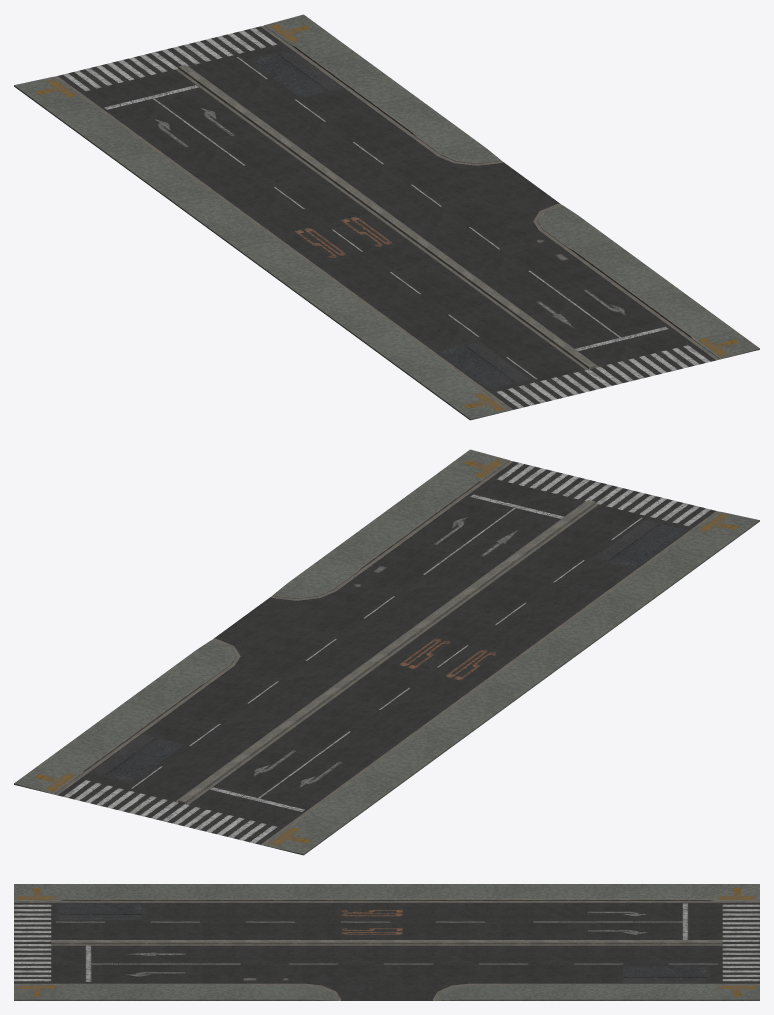
Rendered from jctlowRoad22mC_f.fbx.
3 renders of one model, top to bottom at view 1: azimuth 30°, elevation 25°; view 2: azimuth 150°, elevation 25°; view 3: azimuth 270°, elevation 25°, orthographic. The views are drawn at different scales.
Visible parts, largest first — view 1: jctlowRoad22mC_f; view 2: jctlowRoad22mC_f; view 3: jctlowRoad22mC_f.
Part boxes in pixels (x1,y1,x2,y2): jctlowRoad22mC_f: (14, 14, 759, 420); jctlowRoad22mC_f: (14, 449, 759, 855); jctlowRoad22mC_f: (14, 884, 759, 1000).
Bounding box in the file's own units: 2200 × 15 × 6000.
Materials: 4 (4 with a texture image).
